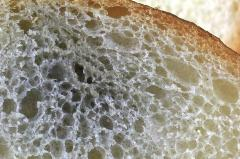organic: (0, 0, 240, 158)
